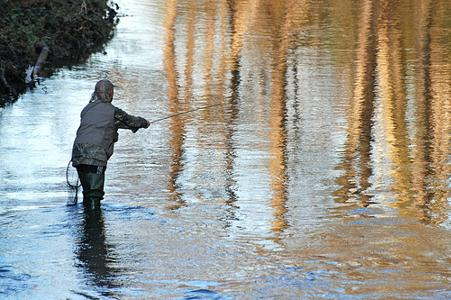person: (74, 80, 151, 201)
